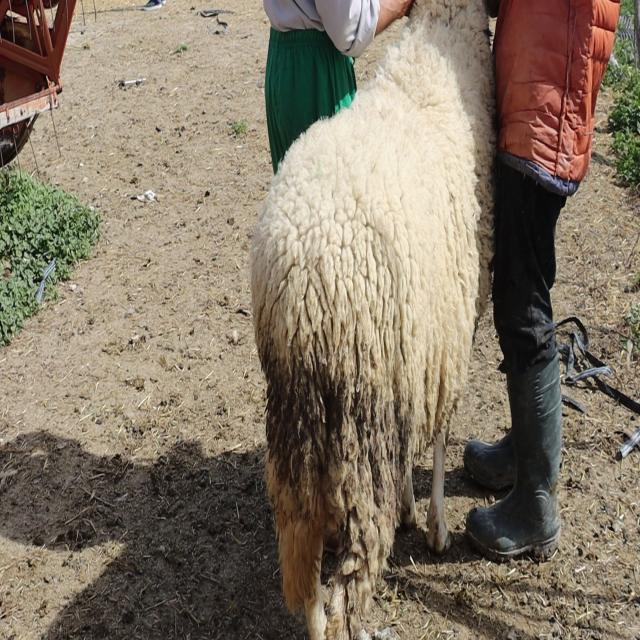Score_5: (251, 0, 496, 639)
